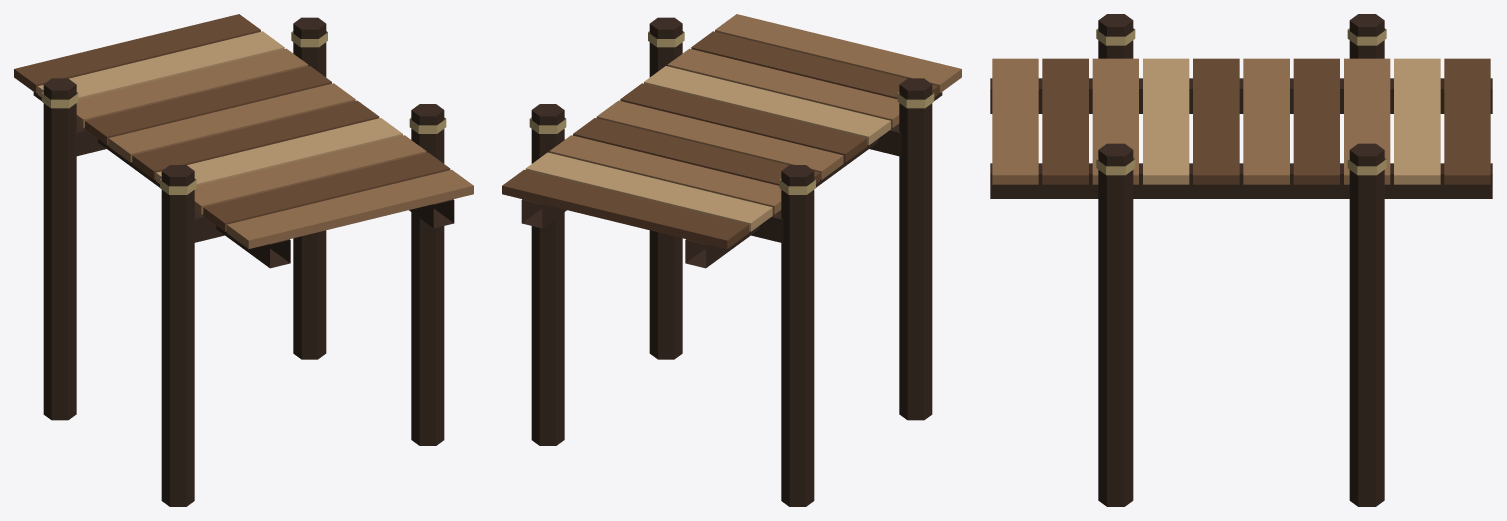
The model's file is dock_segment.fbx.
The picture shows the model from 3 angles, left to right: view 1: azimuth 30°, elevation 25°; view 2: azimuth 150°, elevation 25°; view 3: azimuth 270°, elevation 25°; orthographic projection. The views are drawn at different scales.
Visible parts, largest first — view 1: dock_segment; view 2: dock_segment; view 3: dock_segment.
Boxes of the visible parts, box(x1,y1,x2,y2) form: dock_segment: box(14, 14, 473, 506); dock_segment: box(502, 14, 961, 506); dock_segment: box(990, 14, 1492, 506).
Bounding box in the file's own units: 2.71 × 3.08 × 4.
